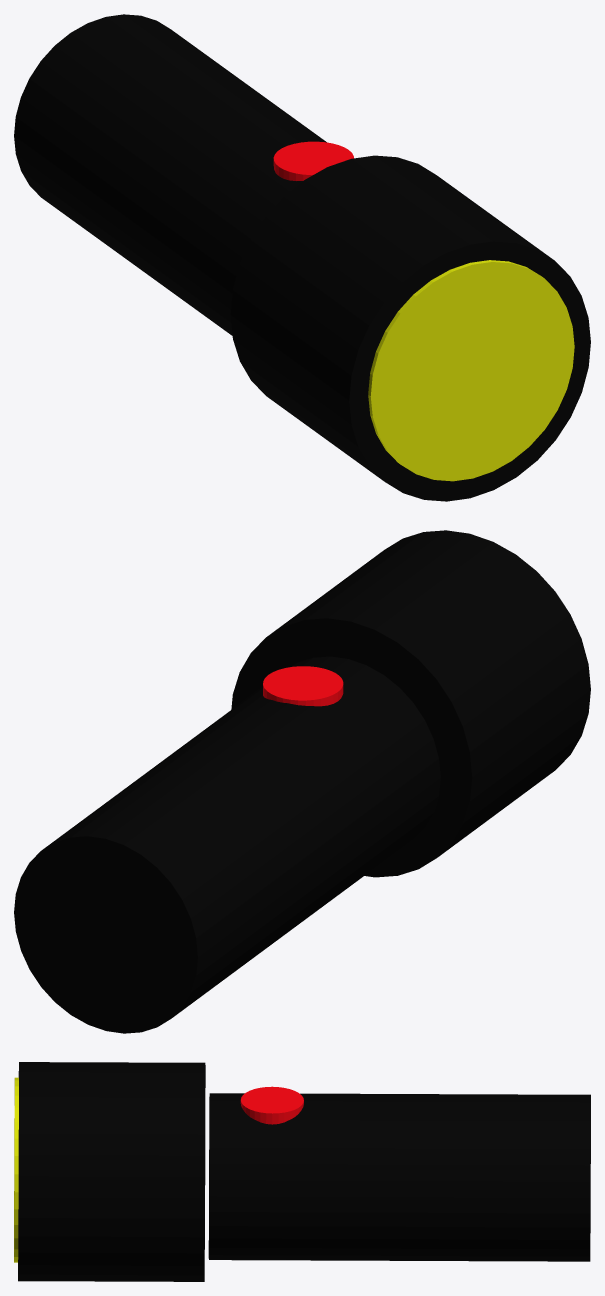
Rendered from Flashlight (1).glb.
The picture shows the model from 3 angles, top to bottom: view 1: azimuth 30°, elevation 25°; view 2: azimuth 150°, elevation 25°; view 3: azimuth 270°, elevation 25°; orthographic projection. The views are drawn at different scales.
Visible parts, largest first — view 1: Cylinder, Cylinder.001, Cylinder.002, Cylinder.003; view 2: Cylinder, Cylinder.001, Cylinder.003; view 3: Cylinder, Cylinder.001, Cylinder.003, Cylinder.002.
Boxes of the visible parts, x1,y1,x2,y2 form: Cylinder: (14,14,326,335); Cylinder.001: (230,155,590,501); Cylinder.002: (368,260,574,481); Cylinder.003: (273,141,353,180); Cylinder: (14,656,440,1033); Cylinder.001: (231,530,590,877); Cylinder.003: (263,666,343,706); Cylinder: (208,1093,590,1261); Cylinder.001: (18,1062,205,1281); Cylinder.003: (240,1086,303,1124); Cylinder.002: (14,1077,18,1262).
Bounding box in the file's own units: 2.63 × 2.64 × 6.91.
